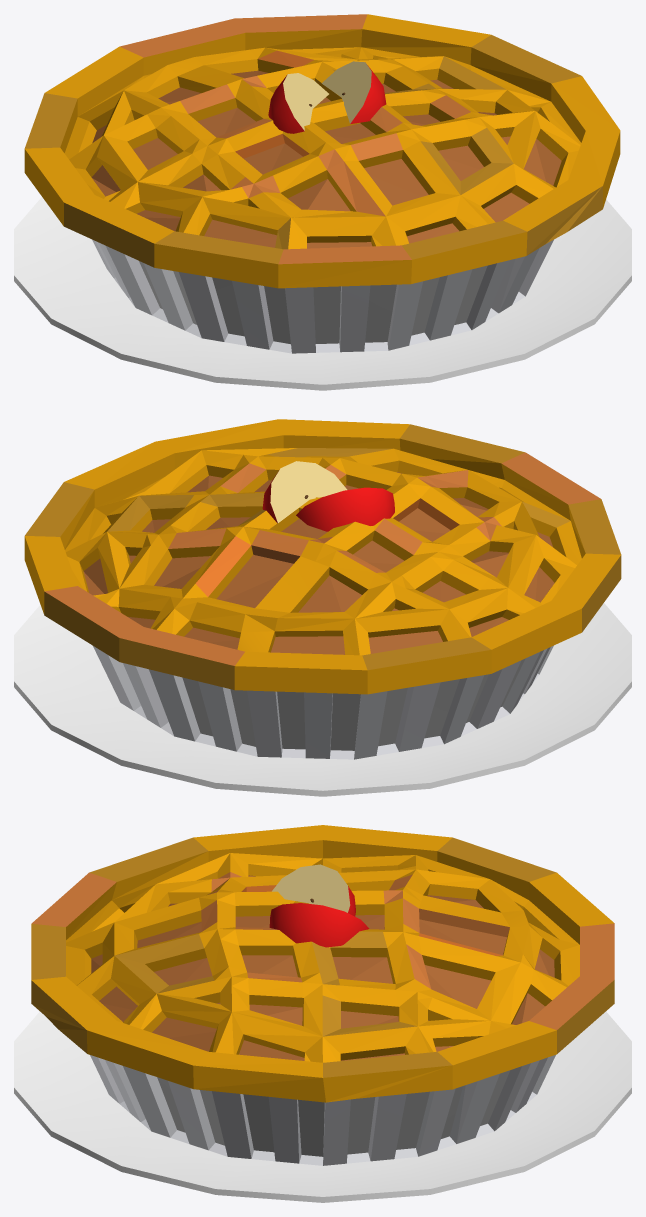
The model's file is tarte.FBX.
The picture shows the model from 3 angles, top to bottom: view 1: azimuth 30°, elevation 25°; view 2: azimuth 150°, elevation 25°; view 3: azimuth 270°, elevation 25°; orthographic projection.
Visible parts, largest first — view 1: Cylinder001 (×2), Sphere001, Sphere004; view 2: Cylinder001 (×2), Sphere004, Sphere001; view 3: Cylinder001 (×2), Sphere001, Sphere004.
Boxes of the visible parts, left/top/right/bottom form: Cylinder001 (×2): left=14, top=14, right=631, bottom=390; Sphere001: left=322, top=61, right=386, bottom=123; Sphere004: left=268, top=73, right=328, bottom=133; Cylinder001 (×2): left=14, top=419, right=631, bottom=796; Sphere004: left=296, top=487, right=394, bottom=531; Sphere001: left=262, top=461, right=347, bottom=523; Cylinder001 (×2): left=14, top=825, right=631, bottom=1202; Sphere001: left=269, top=903, right=369, bottom=947; Sphere004: left=272, top=864, right=355, bottom=916.
Size of the model in its own units: 107 by 39.1 by 106.
